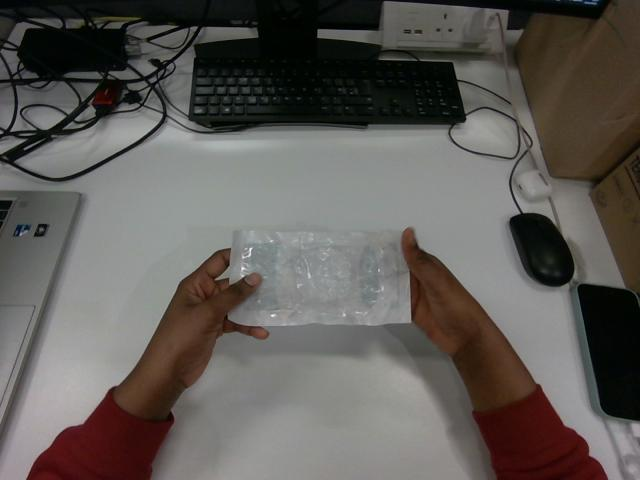gallipot: (229, 231, 410, 325)
